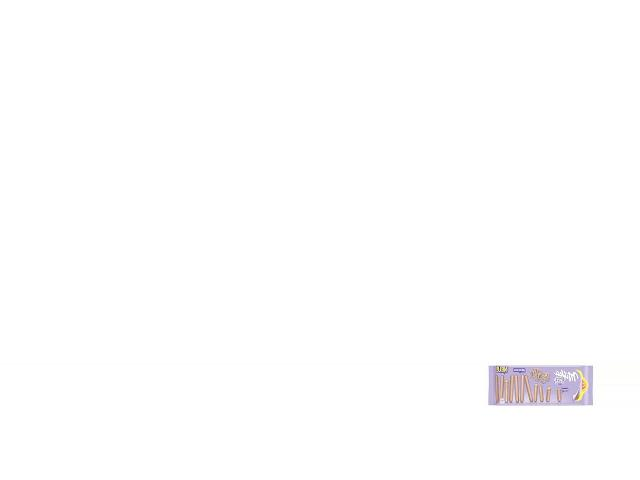chocolate: (486, 364, 594, 411)
